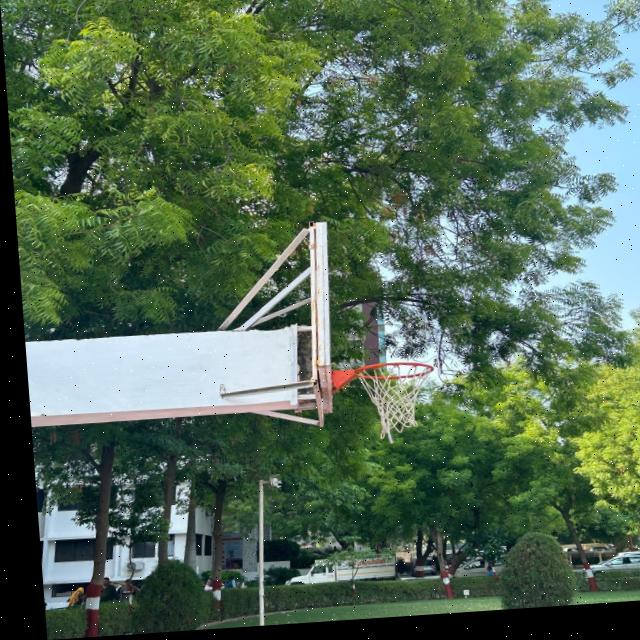hoop: (332, 346, 450, 457)
